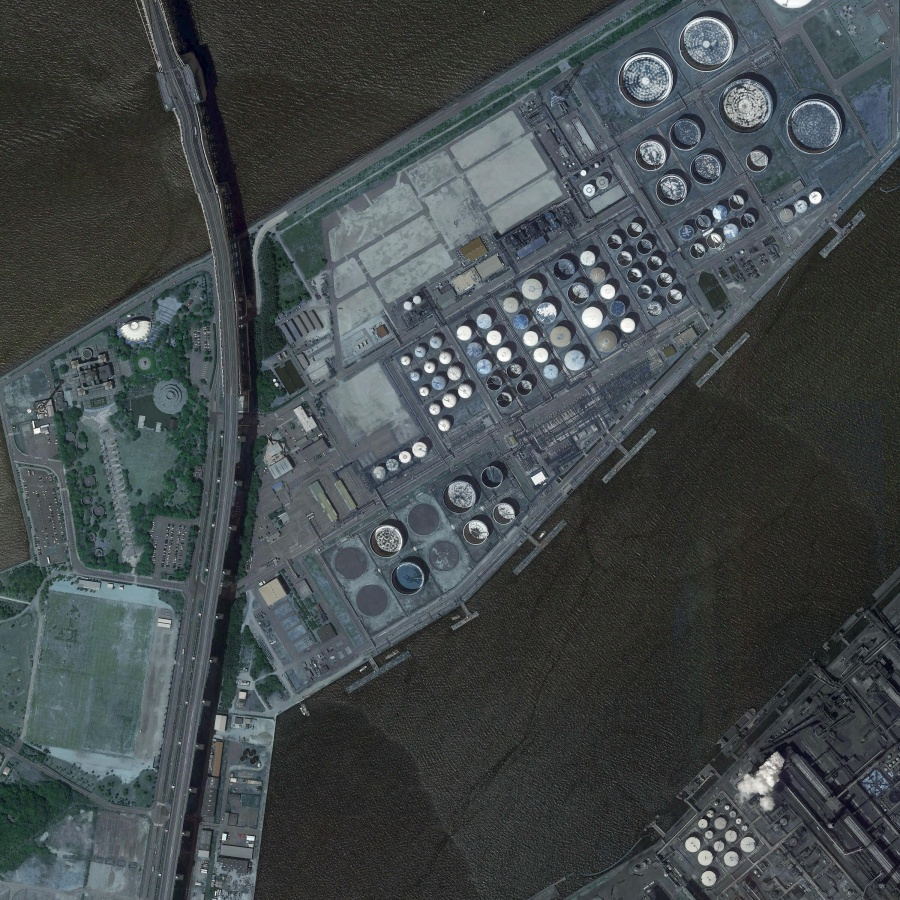PowerPlant: (316, 11, 849, 634)
